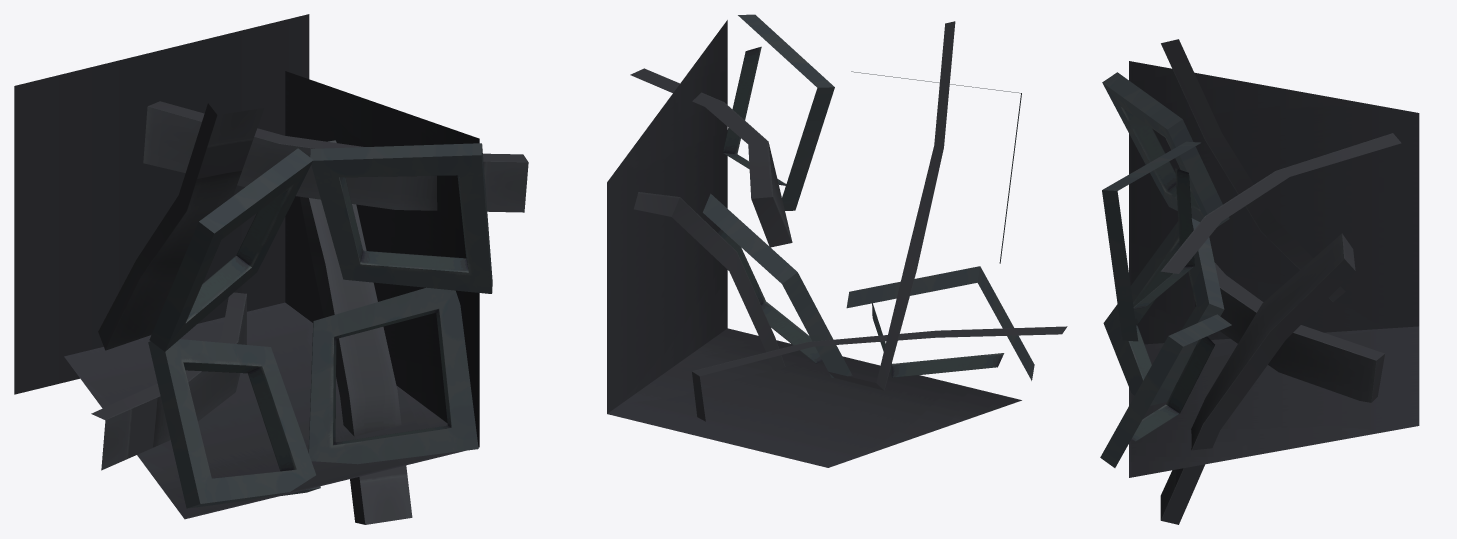
File: 2x2_busted_catwalk.glb
3 views of the same model, side by side, from view 1: azimuth 30°, elevation 25°; view 2: azimuth 150°, elevation 25°; view 3: azimuth 270°, elevation 25° (orthographic). The views are drawn at different scales.
Parts seen in each view (by area): view 1: clockworks.part_base_2x2_busted_catwalk-Mesh[2], clockworks.part_base_2x2_busted_catwalk-Mesh[1], clockworks.part_base_2x2_busted_catwalk-Mesh[0]; view 2: clockworks.part_base_2x2_busted_catwalk-Mesh[2], clockworks.part_base_2x2_busted_catwalk-Mesh[1], clockworks.part_base_2x2_busted_catwalk-Mesh[0]; view 3: clockworks.part_base_2x2_busted_catwalk-Mesh[2], clockworks.part_base_2x2_busted_catwalk-Mesh[0], clockworks.part_base_2x2_busted_catwalk-Mesh[1].
Part boxes in pixels (x1,y1,x2,y2): clockworks.part_base_2x2_busted_catwalk-Mesh[2]: (14, 14, 479, 519); clockworks.part_base_2x2_busted_catwalk-Mesh[1]: (148, 143, 492, 508); clockworks.part_base_2x2_busted_catwalk-Mesh[0]: (91, 101, 528, 524); clockworks.part_base_2x2_busted_catwalk-Mesh[2]: (607, 20, 1021, 467); clockworks.part_base_2x2_busted_catwalk-Mesh[1]: (703, 14, 1034, 380); clockworks.part_base_2x2_busted_catwalk-Mesh[0]: (630, 21, 1067, 421); clockworks.part_base_2x2_busted_catwalk-Mesh[2]: (1129, 61, 1419, 477); clockworks.part_base_2x2_busted_catwalk-Mesh[0]: (1160, 39, 1401, 524); clockworks.part_base_2x2_busted_catwalk-Mesh[1]: (1100, 72, 1231, 467).
Bounding box in the file's own units: 2.96 × 2.98 × 2.18.
3 materials, 3 textured.
